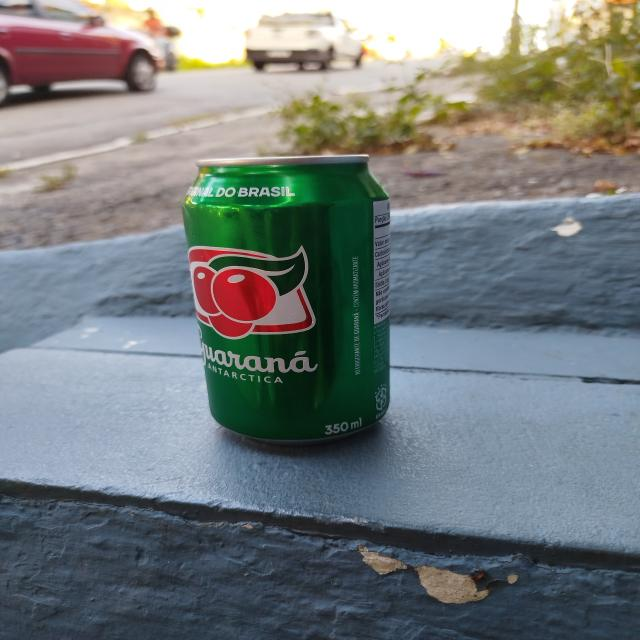Guarana: (183, 152, 395, 439)
